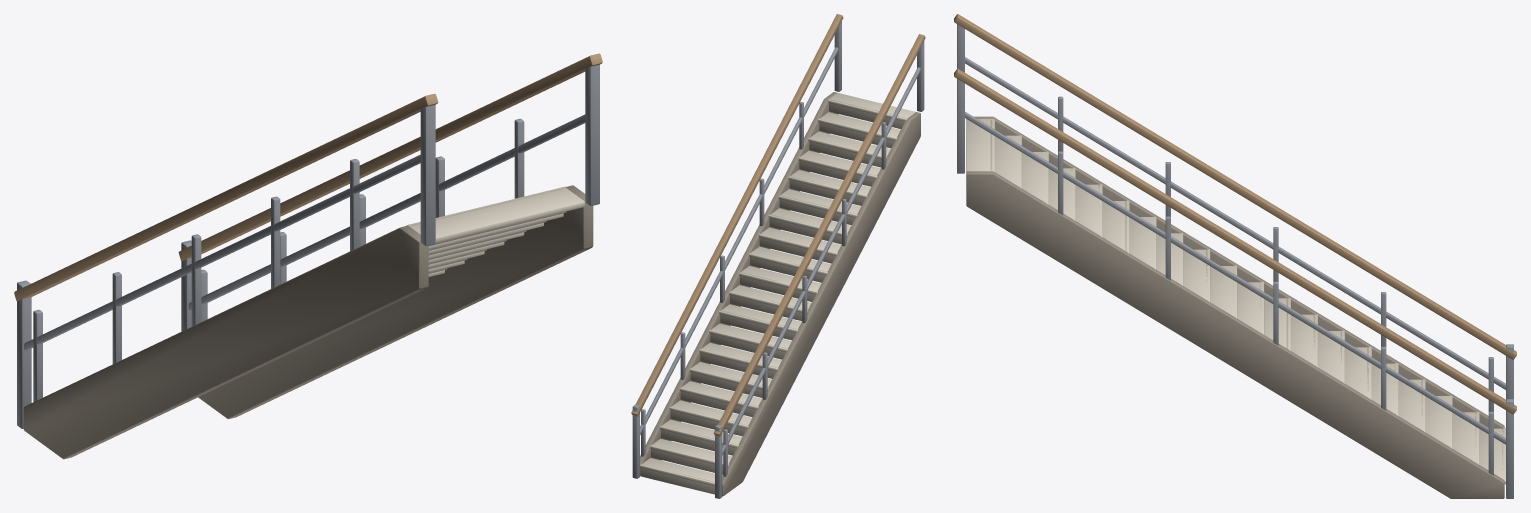
The model's file is th11_treppenlauf.glb.
3 views of the same model, side by side, from view 1: azimuth 30°, elevation 25°; view 2: azimuth 150°, elevation 25°; view 3: azimuth 270°, elevation 25° (orthographic). The views are drawn at different scales.
Visible parts, largest first — view 1: Wange, Wange.001, Cube.040, Cube.049, Cube.038, Cube.041, Cube.050, Cube.048, Cube.057, Cube.047, Cube.044, Cube.042 (+5 smaller); view 2: Wange, Cube.040, Cube.049, Wange.001, Cube.041, Cube.050, Cube, Cube.038, Cube.014, Cube.024, Cube.030, Cube.006 (+38 smaller); view 3: Wange.001, Cube.040, Cube.049, Wange, Cube.050, Cube.041, Cube.038, Cube.006, Cube.030, Cube.018, Cube.002, Cube.022 (+16 smaller).
Part boxes in pixels (bbox=[...]): Wange: bbox=[23, 225, 428, 459]; Wange.001: bbox=[198, 185, 593, 419]; Cube.040: bbox=[14, 93, 438, 301]; Cube.049: bbox=[178, 53, 602, 260]; Cube.038: bbox=[406, 186, 584, 243]; Cube.041: bbox=[24, 154, 420, 350]; Cube.050: bbox=[188, 114, 585, 310]; Cube.048: bbox=[420, 104, 435, 246]; Cube.057: bbox=[585, 64, 599, 205]; Cube.047: bbox=[17, 280, 31, 428]; Cube.044: bbox=[191, 234, 201, 326]; Cube.042: bbox=[33, 309, 42, 401]; Wange: bbox=[722, 112, 920, 496]; Cube.040: bbox=[713, 34, 925, 436]; Cube.049: bbox=[631, 14, 843, 416]; Wange.001: bbox=[640, 92, 838, 476]; Cube.041: bbox=[722, 67, 920, 455]; Cube.050: bbox=[640, 47, 838, 435]; Cube: bbox=[640, 458, 722, 485]; Cube.038: bbox=[827, 93, 915, 121]; Cube.014: bbox=[708, 323, 791, 351]; Cube.024: bbox=[758, 227, 841, 255]; Cube.030: bbox=[787, 170, 870, 198]; Cube.006: bbox=[669, 400, 751, 428]; Wange.001: bbox=[966, 171, 1504, 498]; Cube.040: bbox=[954, 14, 1516, 359]; Cube.049: bbox=[954, 68, 1516, 414]; Wange: bbox=[966, 116, 1504, 428]; Cube.050: bbox=[965, 111, 1505, 444]; Cube.041: bbox=[965, 57, 1505, 389]; Cube.038: bbox=[966, 119, 994, 172]; Cube.006: bbox=[1398, 379, 1425, 432]; Cube.030: bbox=[1075, 184, 1102, 237]; Cube.018: bbox=[1237, 281, 1264, 334]; Cube.002: bbox=[1452, 411, 1479, 464]; Cube.022: bbox=[1183, 249, 1210, 302].
Bounding box in the file's own units: 1.54 × 5.26 × 6.28.
